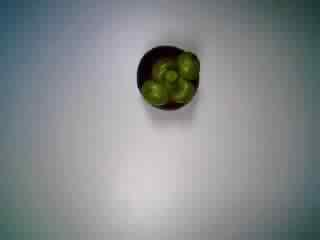mangosteen: (127, 40, 201, 112)
